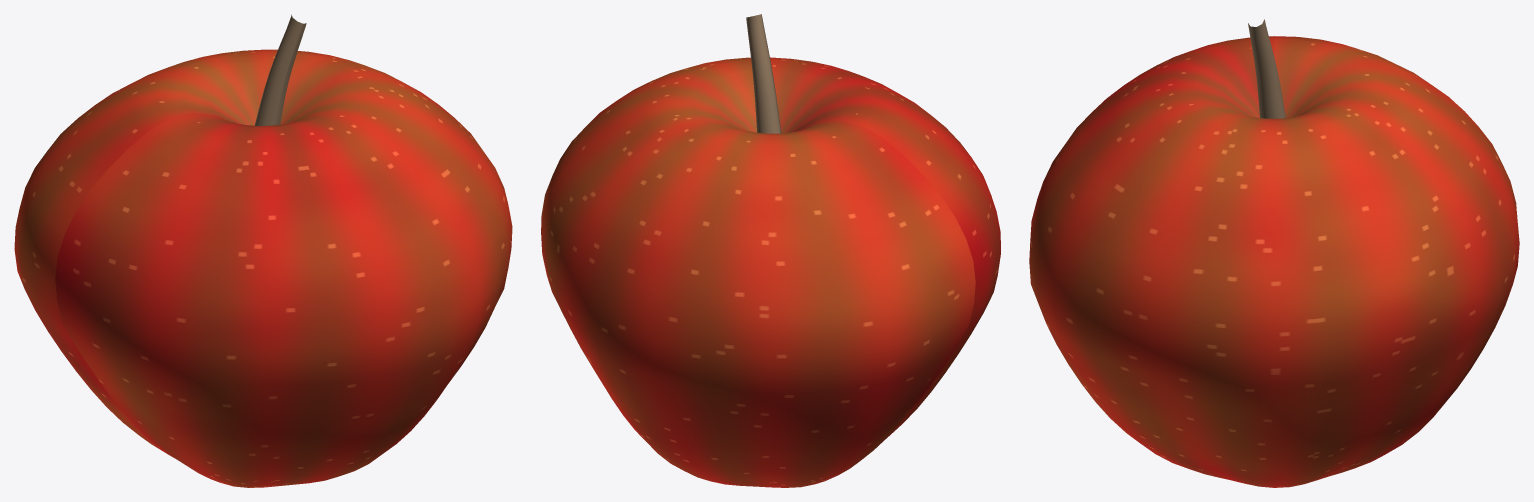
Rendered from red_apple.glb.
The picture shows the model from 3 angles, left to right: view 1: azimuth 30°, elevation 25°; view 2: azimuth 150°, elevation 25°; view 3: azimuth 270°, elevation 25°; orthographic projection. The views are drawn at different scales.
Parts seen in each view (by area): view 1: Fruit_01_Red_Apple_Body, Fruit_01_Red_Apple_Stem; view 2: Fruit_01_Red_Apple_Body, Fruit_01_Red_Apple_Stem; view 3: Fruit_01_Red_Apple_Body, Fruit_01_Red_Apple_Stem.
Boxes of the visible parts, x1=… form: Fruit_01_Red_Apple_Body: x1=14, y1=49, x2=512, y2=487; Fruit_01_Red_Apple_Stem: x1=254, y1=14, x2=306, y2=125; Fruit_01_Red_Apple_Body: x1=541, y1=57, x2=1000, y2=487; Fruit_01_Red_Apple_Stem: x1=746, y1=14, x2=781, y2=133; Fruit_01_Red_Apple_Body: x1=1029, y1=36, x2=1519, y2=487; Fruit_01_Red_Apple_Stem: x1=1248, y1=19, x2=1285, y2=118.
Bounding box in the file's own units: 0.0819 × 0.083 × 0.0808.
Materials: 3 (1 with a texture image).
